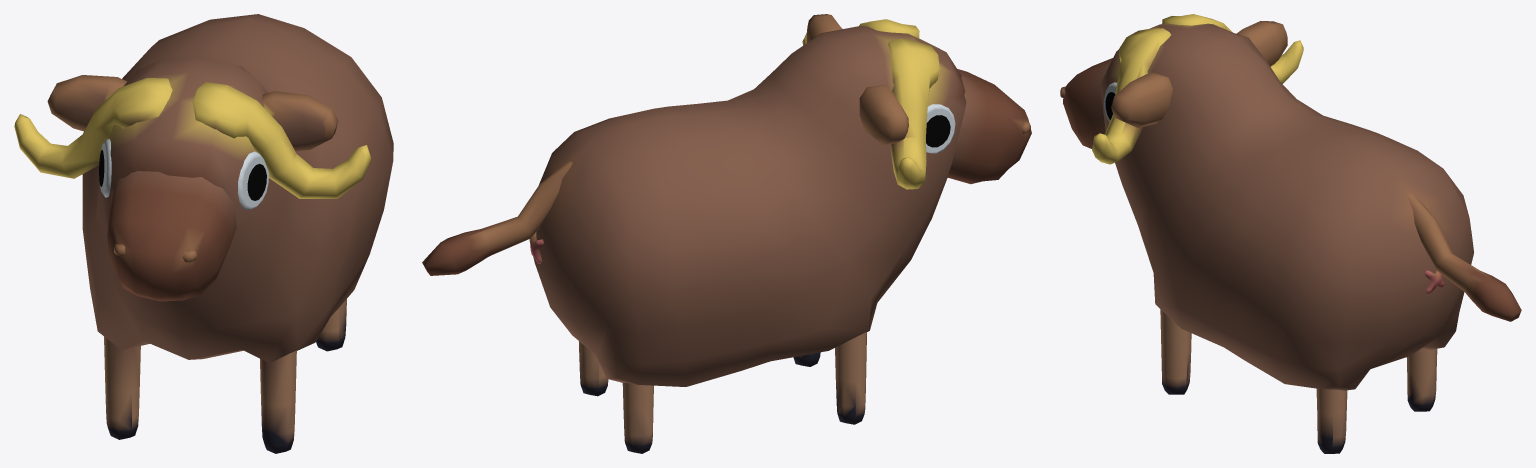
The picture shows the model from 3 angles, left to right: view 1: azimuth 30°, elevation 25°; view 2: azimuth 150°, elevation 25°; view 3: azimuth 270°, elevation 25°; orthographic projection. The views are drawn at different scales.
Parts seen in each view (by area): view 1: 116; view 2: 116; view 3: 116.
Boxes of the visible parts, x1=… form: 116: x1=14, y1=14, x2=393, y2=453; 116: x1=422, y1=14, x2=1031, y2=453; 116: x1=1060, y1=14, x2=1521, y2=453.
Size of the model in its own units: 1.1 by 0.9555 by 1.2.
